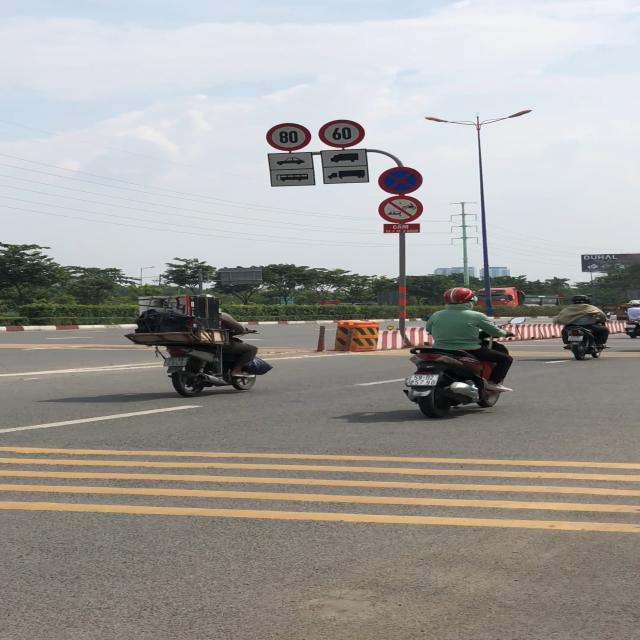Bien bao cam dung xe va do xe: (376, 167, 424, 196)
Bien bao toc do toi da cho phep: (317, 120, 372, 150), (266, 121, 313, 153)
